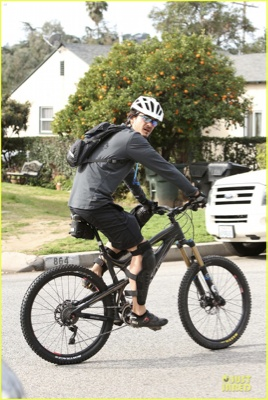helmet: (127, 91, 166, 144)
